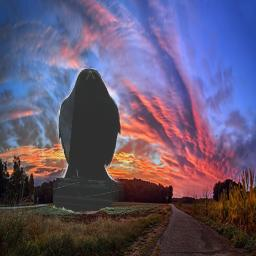Crow: (53, 68, 124, 214)
